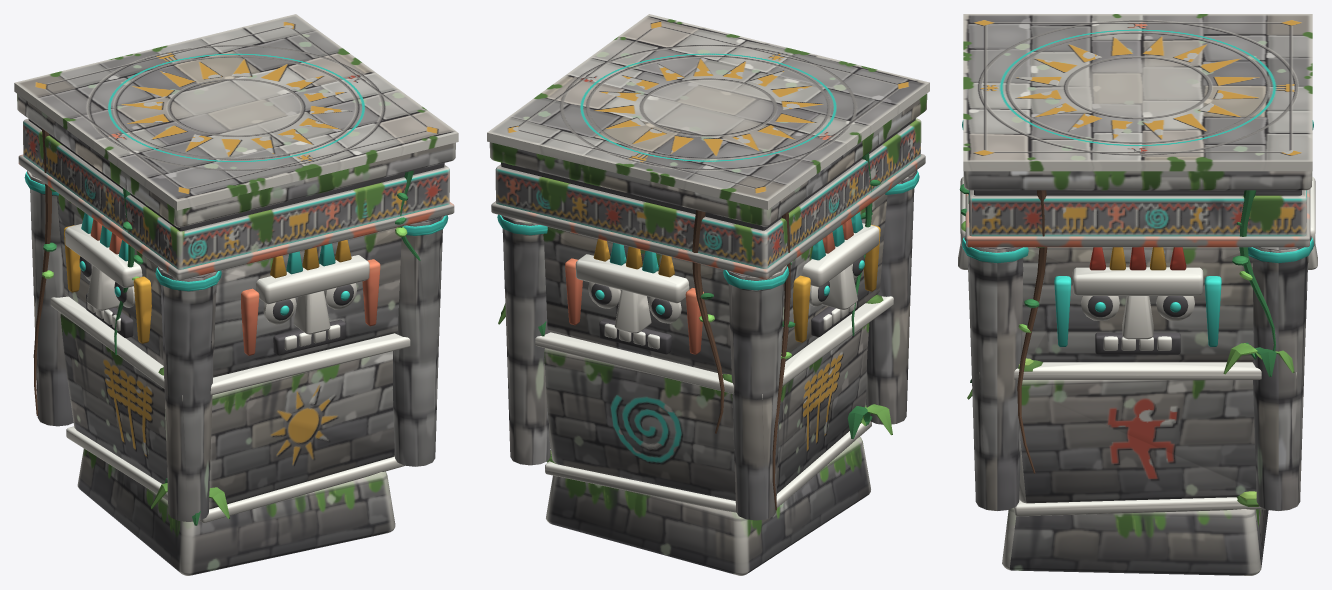
The model's file is core.glb.
The picture shows the model from 3 angles, left to right: view 1: azimuth 30°, elevation 25°; view 2: azimuth 150°, elevation 25°; view 3: azimuth 270°, elevation 25°; orthographic projection. The views are drawn at different scales.
Parts seen in each view (by area): view 1: core.001; view 2: core.001; view 3: core.001.
Boxes of the visible parts, x1=… form: core.001: x1=14, y1=14, x2=458, y2=575; core.001: x1=487, y1=14, x2=929, y2=575; core.001: x1=958, y1=14, x2=1317, y2=575.
Bounding box in the file's own units: 10.34 × 13.7 × 10.29.
1 material, 1 textured.
